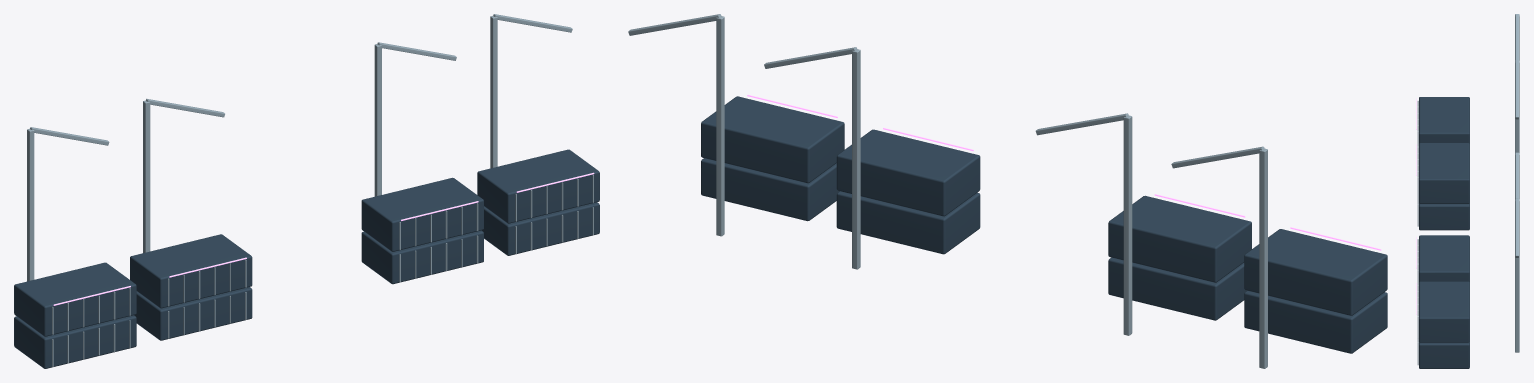
The model's file is neon-docks-v1.glb.
3 views of the same model, side by side, from view 1: azimuth 30°, elevation 25°; view 2: azimuth 150°, elevation 25°; view 3: azimuth 270°, elevation 25° (orthographic). The views are drawn at different scales.
Visible parts, largest first — view 1: neon-docks alloy, neon-docks trim, neon-docks lighting; view 2: neon-docks alloy, neon-docks trim, neon-docks lighting; view 3: neon-docks alloy, neon-docks trim, neon-docks lighting.
Part boxes in pixels (x1,y1,x2,y2): neon-docks alloy: [14, 149, 599, 368]; neon-docks trim: [27, 14, 593, 366]; neon-docks lighting: [53, 172, 594, 305]; neon-docks alloy: [701, 96, 1387, 353]; neon-docks trim: [628, 14, 1267, 368]; neon-docks lighting: [747, 94, 1381, 250]; neon-docks alloy: [1419, 97, 1469, 368]; neon-docks trim: [1417, 14, 1519, 365]; neon-docks lighting: [1416, 98, 1416, 314].
Bounding box in the file's own units: 76.07 × 23.21 × 14.17.
